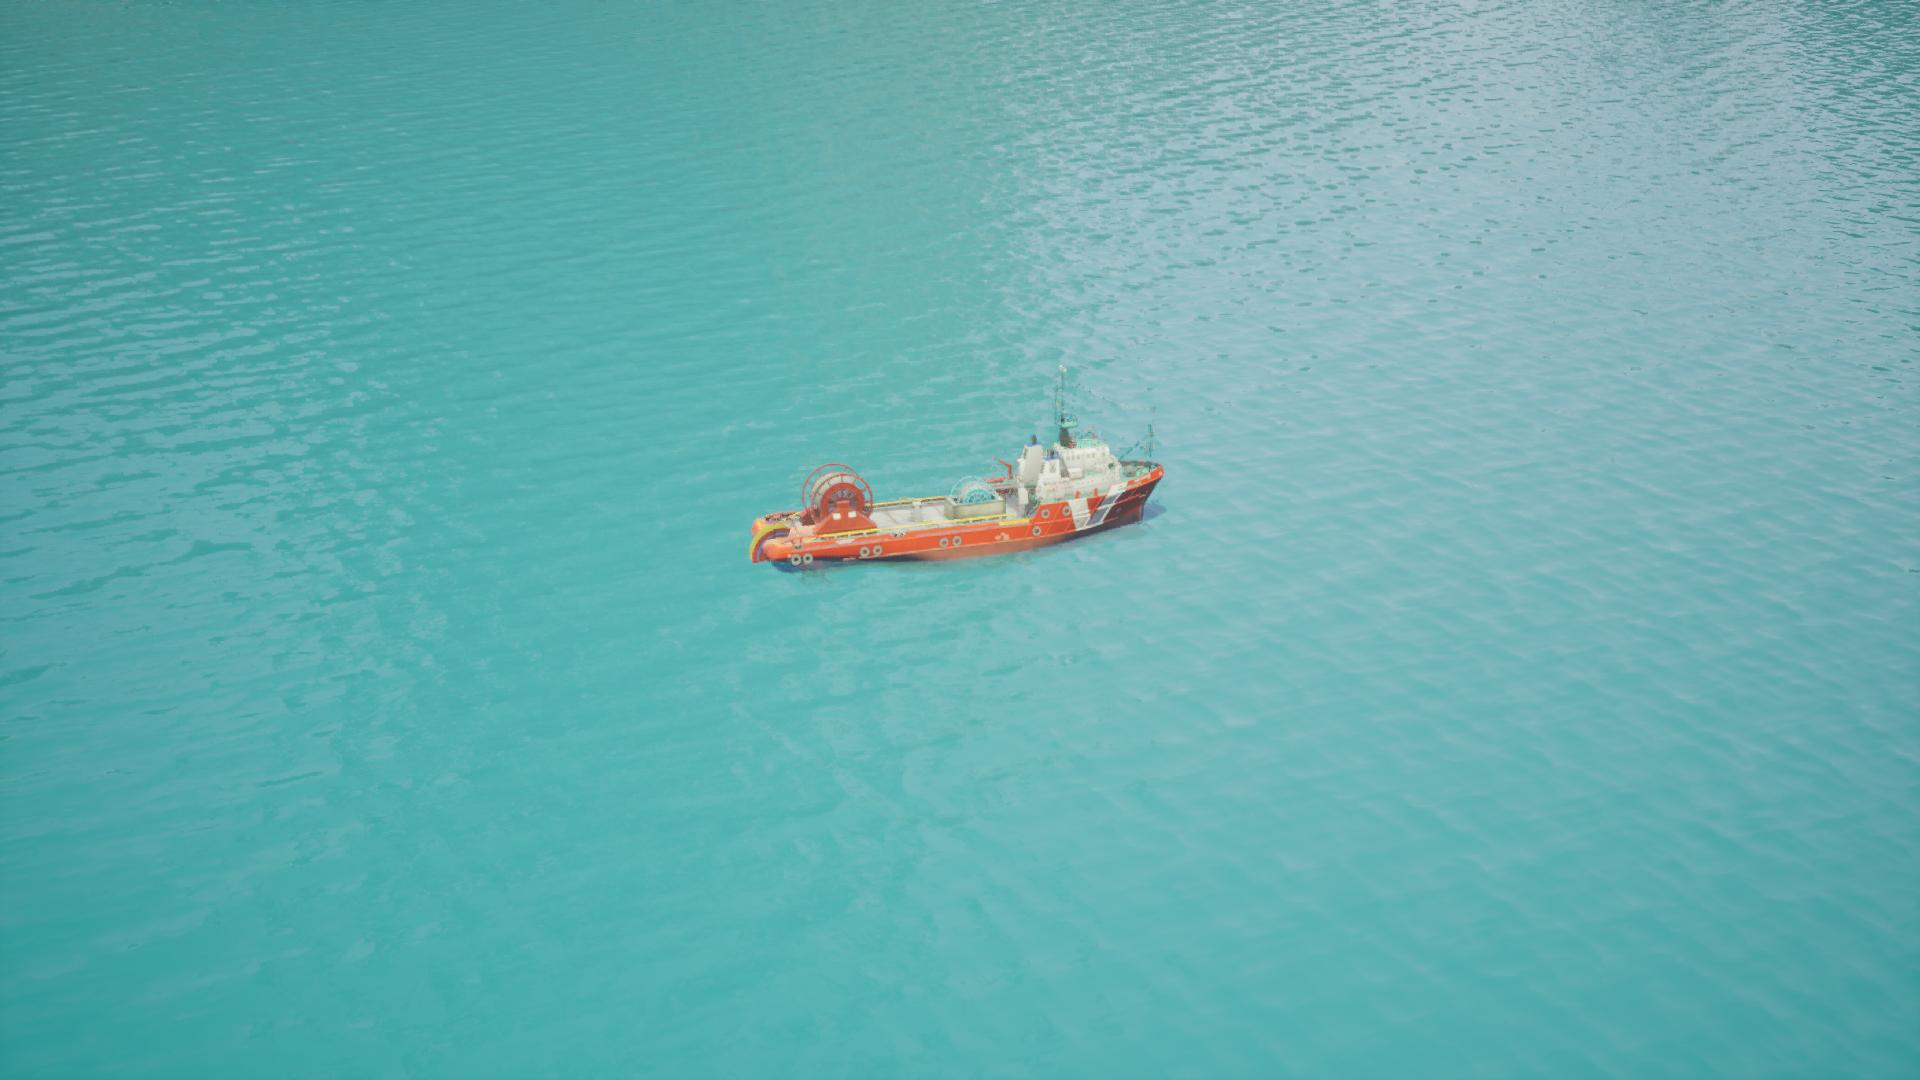Tug Boat: (745, 421, 1178, 570)
